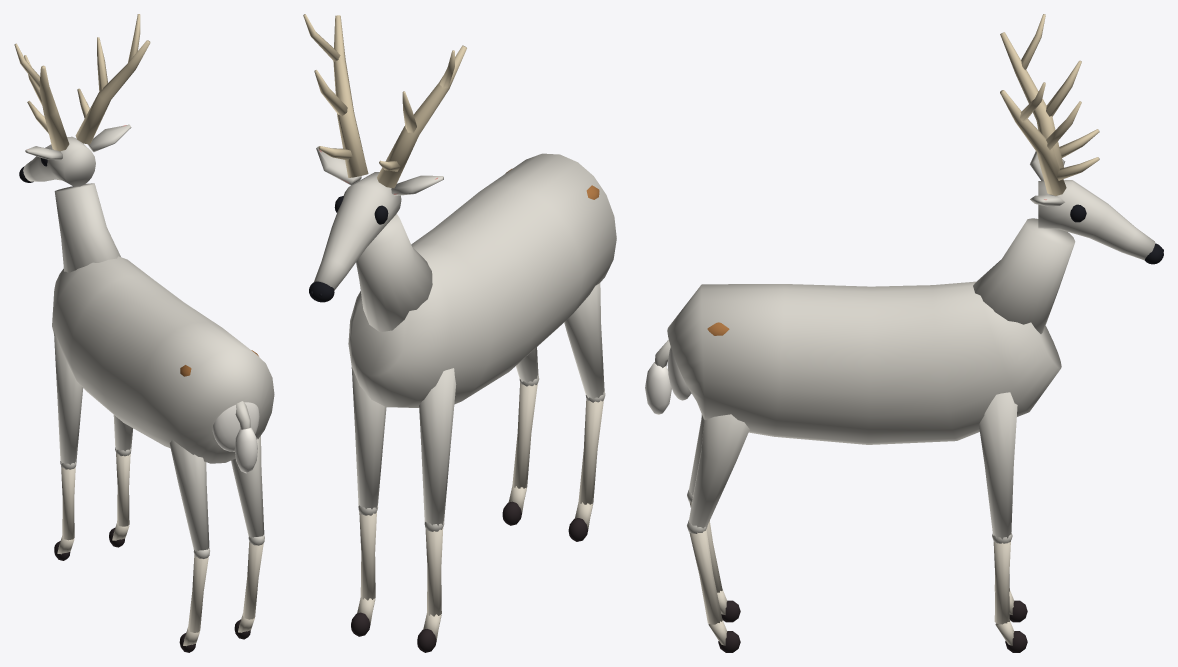
File: beast_white_hart.glb
3 views of the same model, side by side, from view 1: azimuth 30°, elevation 25°; view 2: azimuth 150°, elevation 25°; view 3: azimuth 270°, elevation 25° (orthographic). The views are drawn at different scales.
Parts seen in each view (by area): view 1: body, head, neck, leg_br, leg_fr, leg_bl, shin_bl, shin_br, shin_fr, shin_fl, tail, leg_fl (+1 smaller); view 2: body, head, neck, leg_fr, leg_fl, leg_br, shin_bl, shin_br, shin_fl, shin_fr, ear_r, ear_l (+1 smaller); view 3: body, head, neck, leg_fl, leg_bl, shin_bl, shin_fl, tail, shin_br.
Part boxes in pixels (left/top/right/bottom): body: left=52, top=256, right=274, bottom=463; head: left=14, top=14, right=150, bottom=186; neck: left=54, top=183, right=120, bottom=272; leg_br: left=169, top=439, right=209, bottom=558; leg_fr: left=54, top=332, right=83, bottom=469; leg_bl: left=231, top=436, right=264, bottom=545; shin_bl: left=234, top=541, right=263, bottom=639; shin_br: left=179, top=554, right=208, bottom=652; shin_fr: left=54, top=466, right=75, bottom=560; shin_fl: left=109, top=453, right=130, bottom=547; tail: left=234, top=401, right=257, bottom=473; leg_fl: left=113, top=415, right=132, bottom=456; body: left=348, top=153, right=616, bottom=407; head: left=303, top=14, right=466, bottom=302; neck: left=356, top=214, right=432, bottom=332; leg_fr: left=419, top=368, right=456, bottom=531; leg_fl: left=351, top=367, right=386, bottom=515; leg_br: left=564, top=283, right=605, bottom=402; shin_bl: left=502, top=383, right=537, bottom=525; shin_br: left=568, top=399, right=603, bottom=541; shin_fl: left=351, top=511, right=376, bottom=636; shin_fr: left=417, top=527, right=443, bottom=652; ear_r: left=391, top=175, right=443, bottom=195; ear_l: left=316, top=146, right=361, bottom=185; body: left=667, top=281, right=1061, bottom=444; head: left=1000, top=14, right=1163, bottom=264; neck: left=973, top=218, right=1075, bottom=333; leg_fl: left=979, top=392, right=1017, bottom=543; leg_bl: left=687, top=414, right=749, bottom=533; shin_bl: left=689, top=529, right=740, bottom=652; shin_fl: left=993, top=541, right=1027, bottom=652; tail: left=645, top=339, right=671, bottom=414; shin_br: left=689, top=502, right=740, bottom=622.
Size of the model in its own units: 0.5492 by 2.16 by 1.72.
